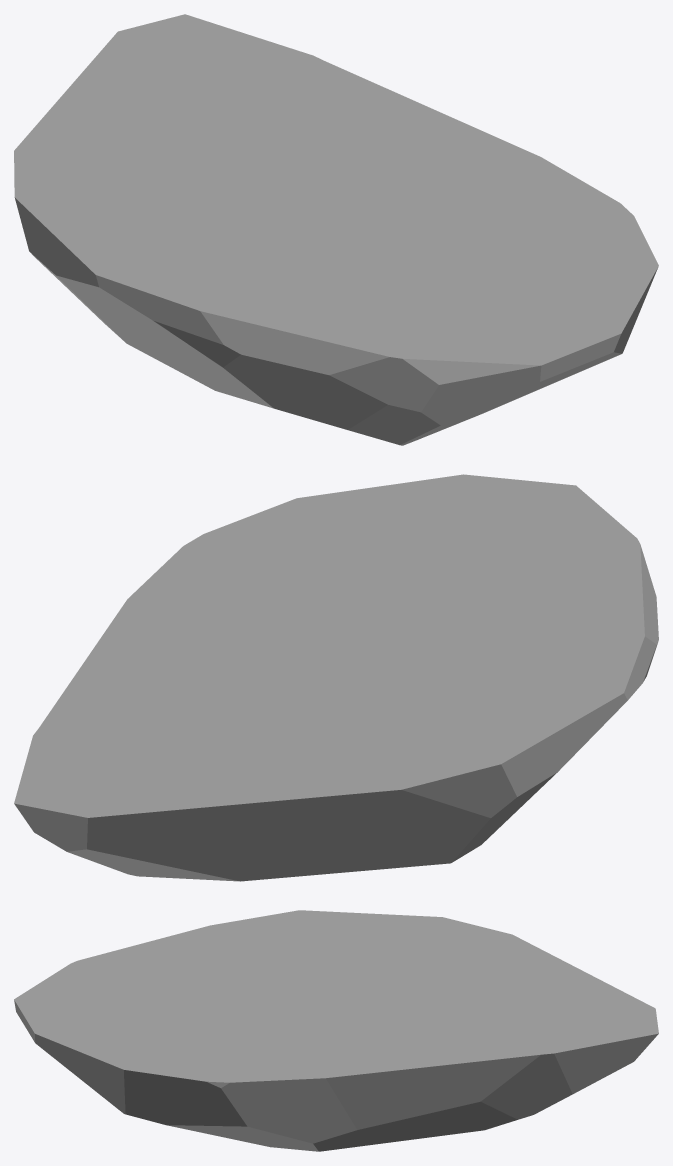
Rendered from HardRock_25.fbx.
3 views of the same model, one above another, from view 1: azimuth 30°, elevation 25°; view 2: azimuth 150°, elevation 25°; view 3: azimuth 270°, elevation 25° (orthographic). The views are drawn at different scales.
Parts seen in each view (by area): view 1: HardRock_25; view 2: HardRock_25; view 3: HardRock_25.
Part boxes in pixels (x1,y1,x2,y2): HardRock_25: [14, 14, 658, 445]; HardRock_25: [14, 474, 658, 881]; HardRock_25: [14, 910, 658, 1151].
Bounding box in the file's own units: 166 × 43.92 × 273.
